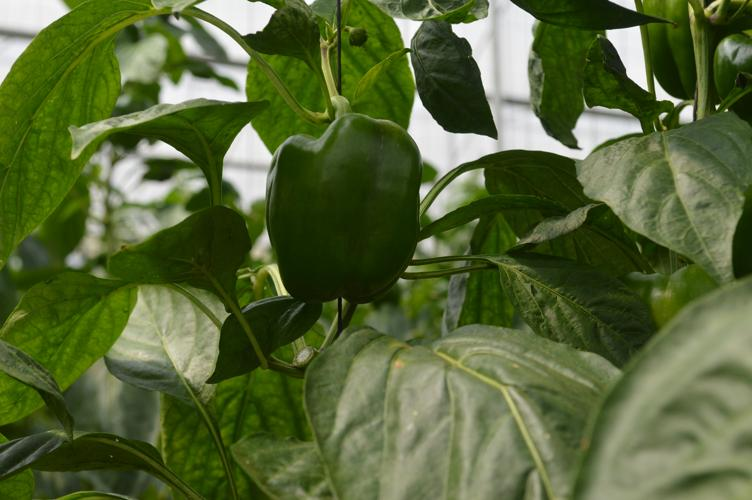BellPepper: (264, 116, 420, 304)
